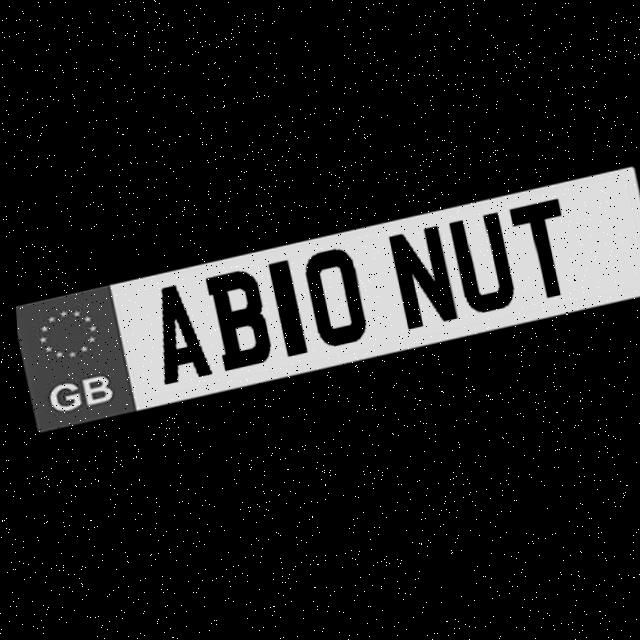license-plates: (16, 164, 640, 432)
